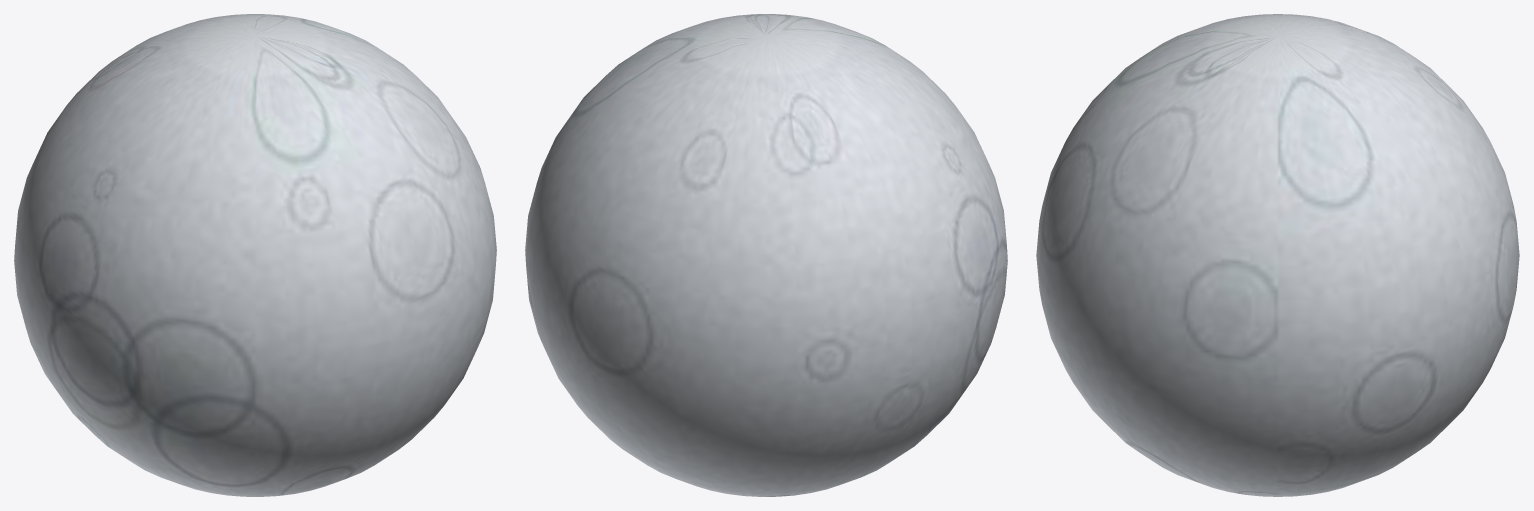
The model's file is eris.glb.
The picture shows the model from 3 angles, left to right: view 1: azimuth 30°, elevation 25°; view 2: azimuth 150°, elevation 25°; view 3: azimuth 270°, elevation 25°; orthographic projection.
Bounding box in the file's own units: 2 × 2 × 2.
Materials: 1 (1 with a texture image).
